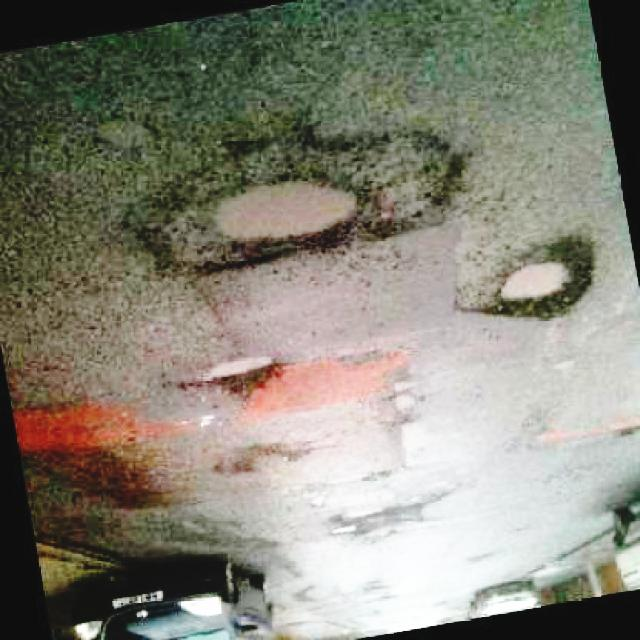pothole: (129, 119, 469, 288), (455, 226, 611, 322), (329, 498, 428, 551), (197, 352, 285, 405)
